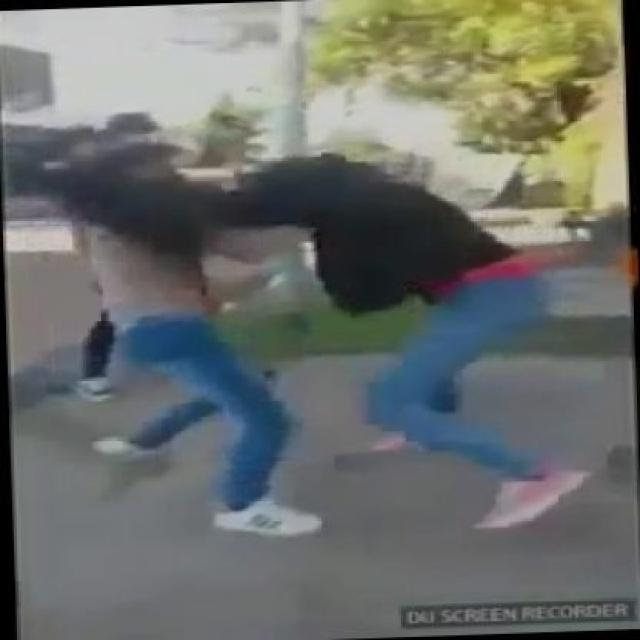fight: (3, 100, 610, 548)
